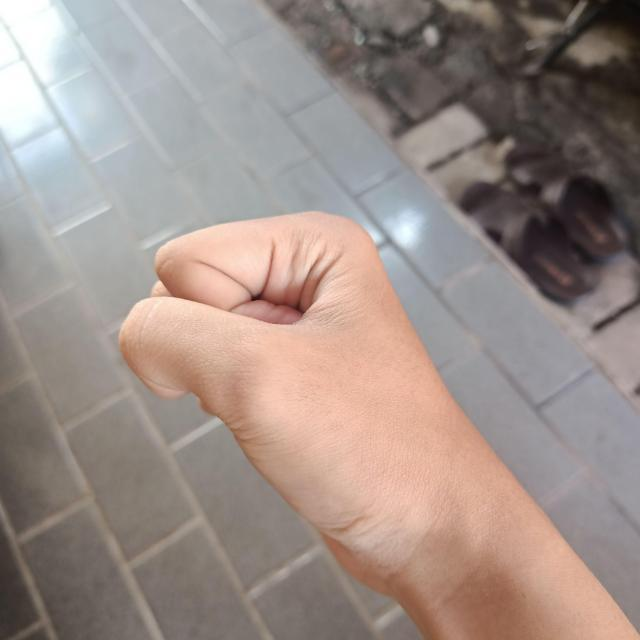fist: (111, 198, 480, 603)
